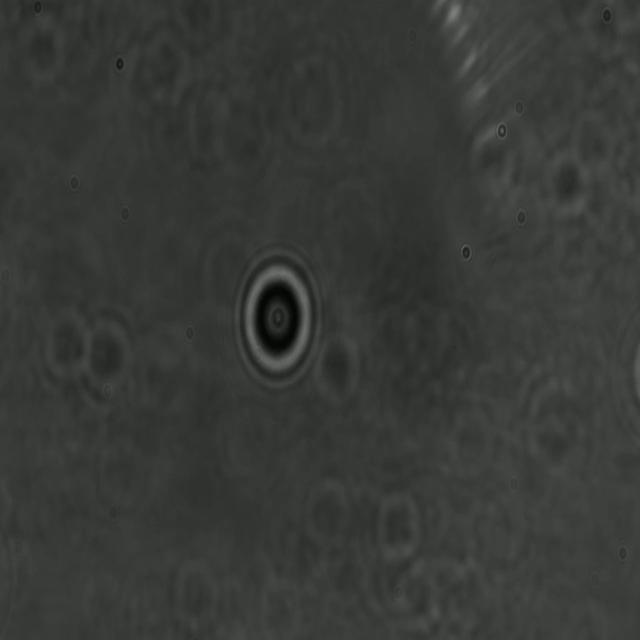LCELL: (234, 244, 325, 392)
